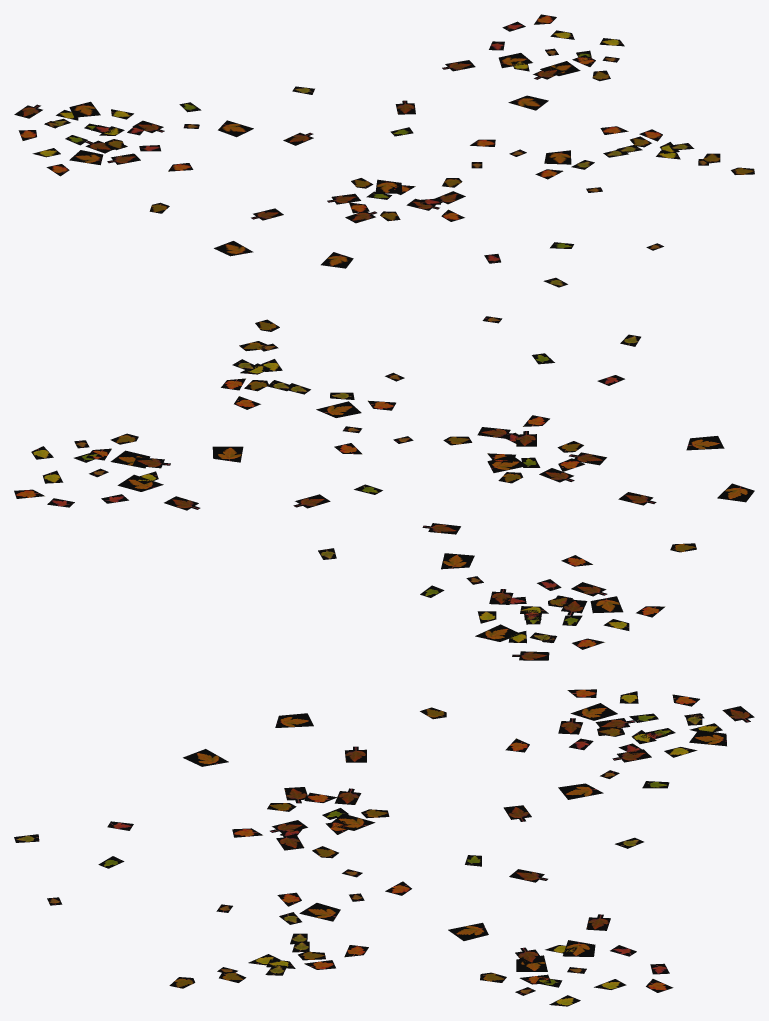
The model's file is leaf_pile_6.fbx.
3 views of the same model, one above another, from view 1: azimuth 30°, elevation 25°; view 2: azimuth 150°, elevation 25°; view 3: azimuth 270°, elevation 25° (orthographic). The views are drawn at different scales.
Parts seen in each view (by area): view 1: leaf_pile_6; view 2: leaf_pile_6; view 3: leaf_pile_6.
Part boxes in pixels (<box>): leaf_pile_6: <box>14,14,754,287</box>; leaf_pile_6: <box>14,316,754,660</box>; leaf_pile_6: <box>14,689,754,1006</box>.
Bounding box in the file's own units: 63.17 × 1.83e-06 × 62.36.
